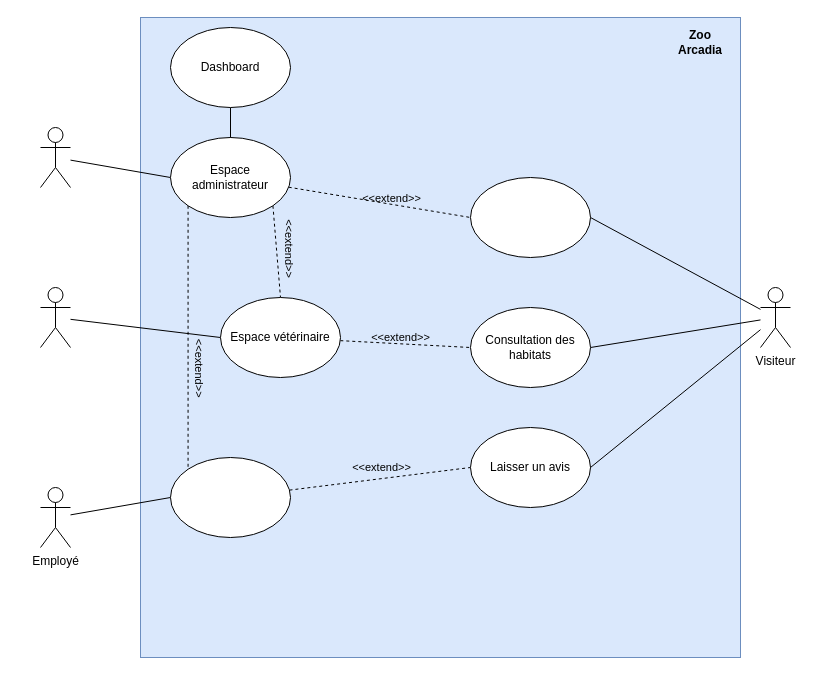
The diagram is 813 pixels wide and 675 high, and some of its shapes have lost their labels. The box of each missing label's shape, as (x1, y1, x2, y2) in pixels:
Administrateur: (40, 126, 70, 188)
Consultation de tous les services: (470, 176, 590, 258)
Espace employé: (170, 456, 290, 538)
Vétérinaire: (40, 286, 70, 348)
